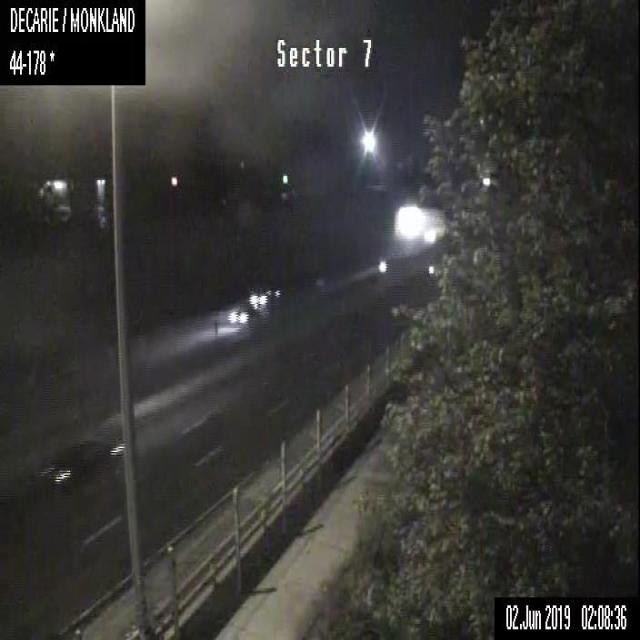vehicle: (44, 441, 112, 488), (225, 306, 247, 326), (247, 290, 268, 310)
